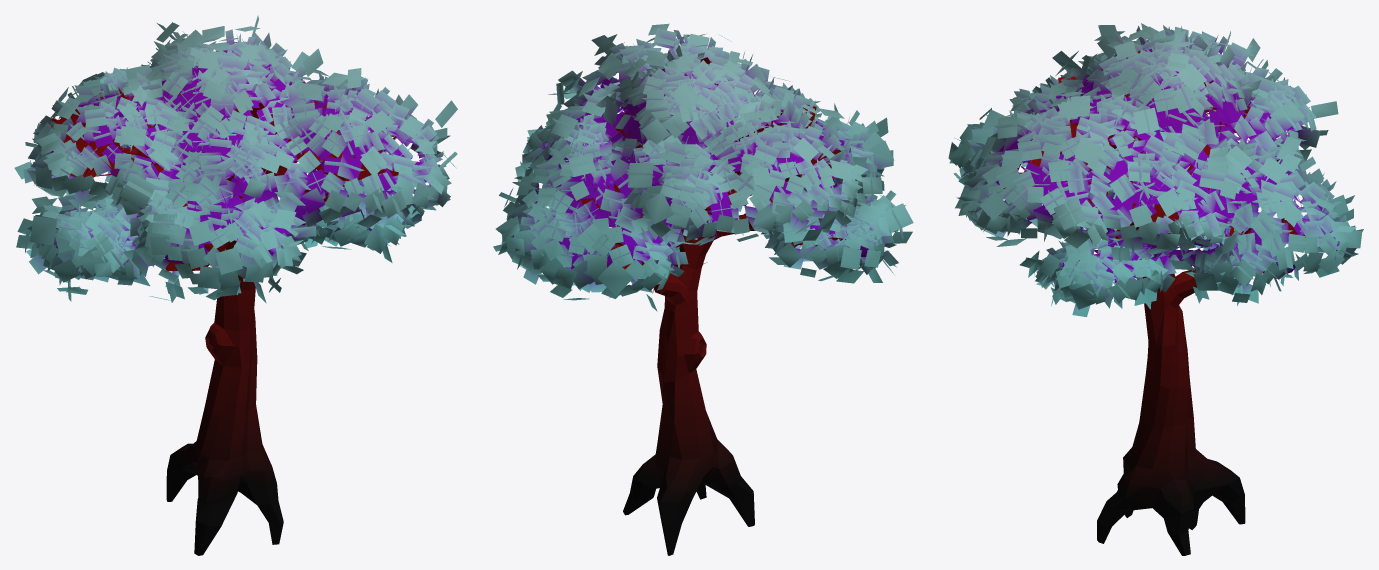
File: SM_Env_Tree_Forest_02.glb
3 views of the same model, side by side, from view 1: azimuth 30°, elevation 25°; view 2: azimuth 150°, elevation 25°; view 3: azimuth 270°, elevation 25° (orthographic). The views are drawn at different scales.
Parts seen in each view (by area): view 1: SM_Env_Tree_Forest_02_LOD0, SM_Env_Tree_Forest_02_Branches_LOD0; view 2: SM_Env_Tree_Forest_02_LOD0, SM_Env_Tree_Forest_02_Branches_LOD0; view 3: SM_Env_Tree_Forest_02_LOD0, SM_Env_Tree_Forest_02_Branches_LOD0.
Boxes of the visible parts, x1,y1,x2,y2 form: SM_Env_Tree_Forest_02_LOD0: (14, 15, 457, 555); SM_Env_Tree_Forest_02_Branches_LOD0: (51, 87, 398, 282); SM_Env_Tree_Forest_02_LOD0: (493, 23, 913, 555); SM_Env_Tree_Forest_02_Branches_LOD0: (568, 57, 845, 293); SM_Env_Tree_Forest_02_LOD0: (948, 23, 1363, 555); SM_Env_Tree_Forest_02_Branches_LOD0: (1003, 50, 1304, 273).
Size of what is drawn, in the model's own units: 10.43 by 12.53 by 9.5.
